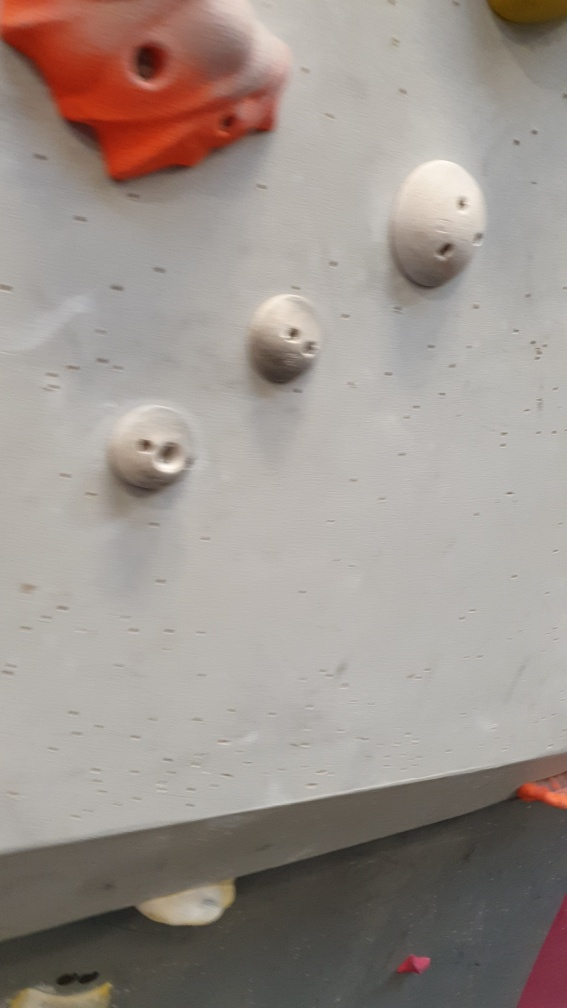Hand Start: (52, 964, 79, 993), (77, 969, 100, 989)
Jug: (3, 1, 296, 192), (514, 756, 567, 818)
Sloper: (388, 156, 491, 294), (243, 290, 330, 390), (111, 401, 196, 500)
